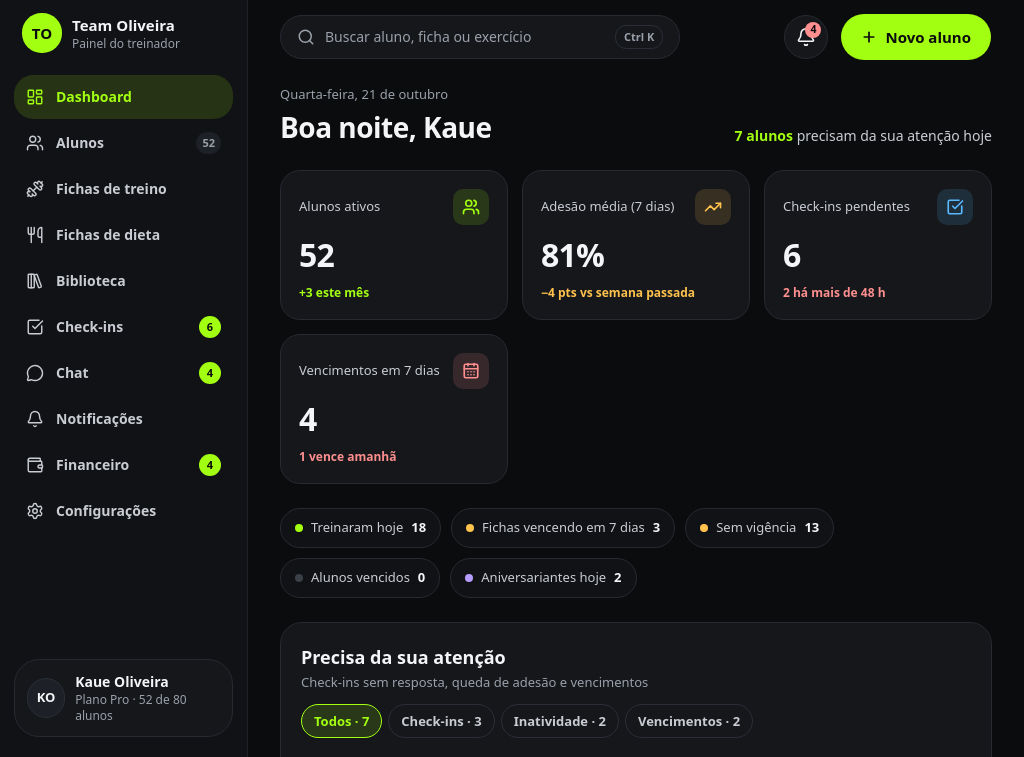
Scenario: Dashboard › filtra pela URL (?atencao=) e mostra o vazio da categoria
Expected: the heading "Boa noite, Kaue" is shown, [280,108,492,146]
Step 1. Click the button "Inatividade · 2" → click(560, 721), box [501,704,619,738]
(page scrolled)
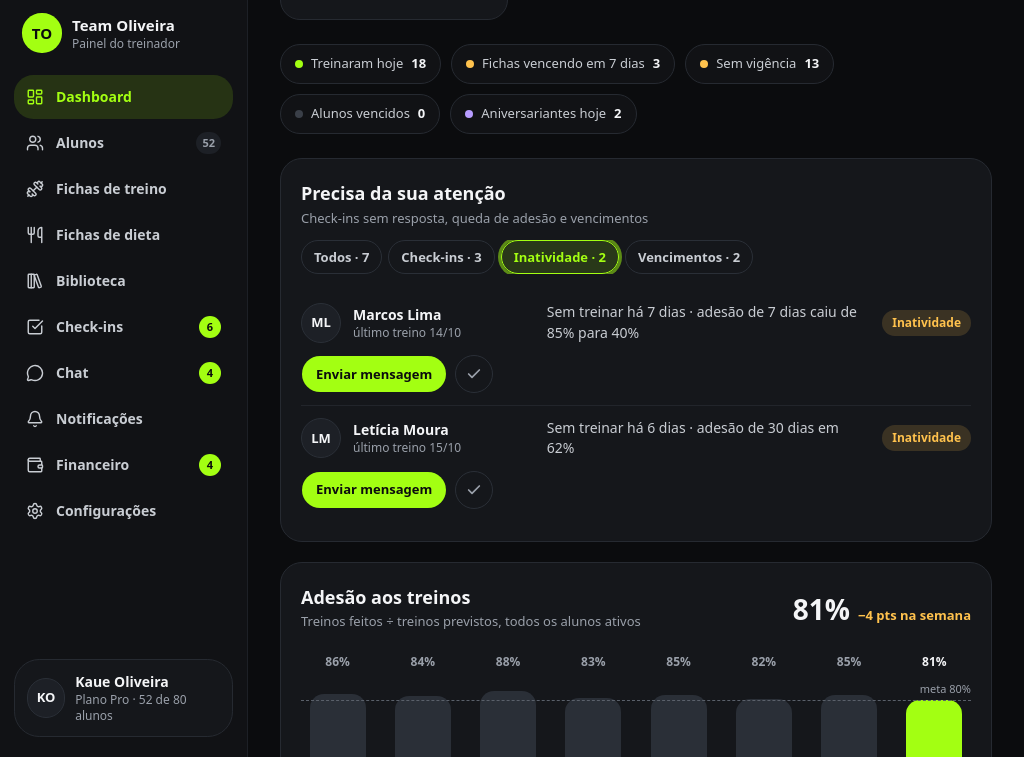
Expected: the button "Inatividade · 2" is pressed, [501,240,619,274]
Step 2. Click the button named "Marcar Marcos Lima como resolvido" → click(474, 374), box [455,355,493,393]
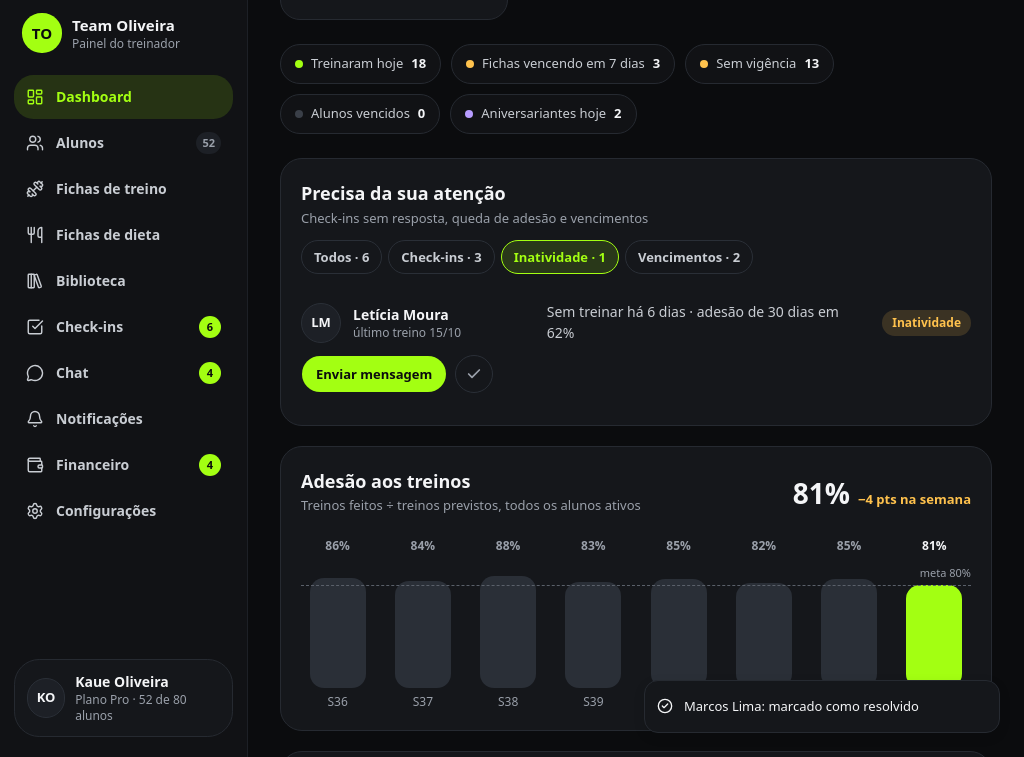
Step 3. Click the button named "Marcar Letícia Moura como resolvido" → click(474, 374), box [455,355,493,393]
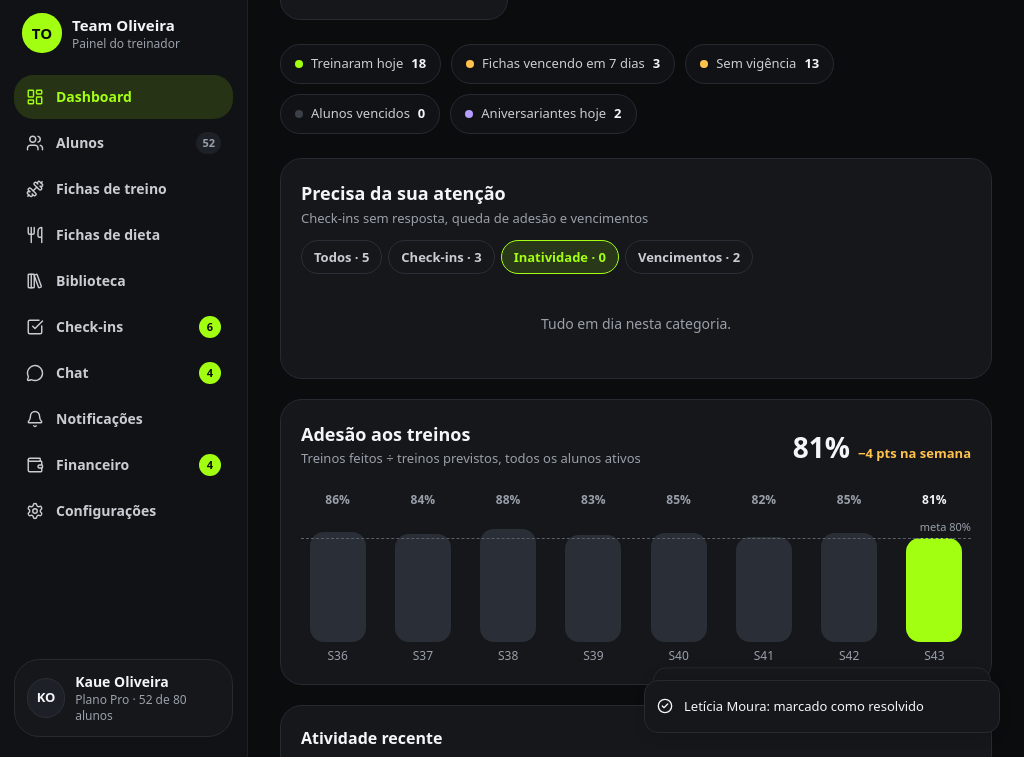
Expected: the text "Tudo em dia nesta categoria." is shown, [541,314,731,333]
Expected: the button "Todos · 5" is shown, [301,240,382,274]
